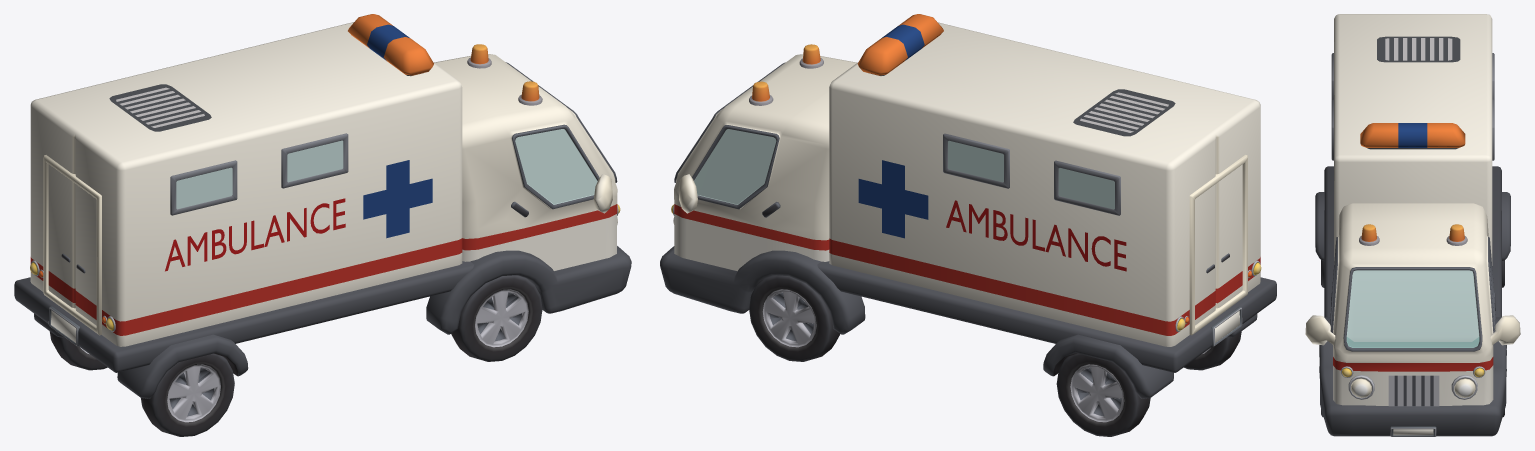
Rendered from ambulance.fbx.
3 views of the same model, side by side, from view 1: azimuth 30°, elevation 25°; view 2: azimuth 150°, elevation 25°; view 3: azimuth 270°, elevation 25° (orthographic). The views are drawn at different scales.
Parts seen in each view (by area): view 1: ambulance; view 2: ambulance; view 3: ambulance.
Boxes of the visible parts, bbox=[...] form: ambulance: bbox=[14, 14, 631, 436]; ambulance: bbox=[660, 14, 1276, 436]; ambulance: bbox=[1305, 14, 1520, 436].
Bounding box in the file's own units: 4.77 × 2.68 × 1.97.
